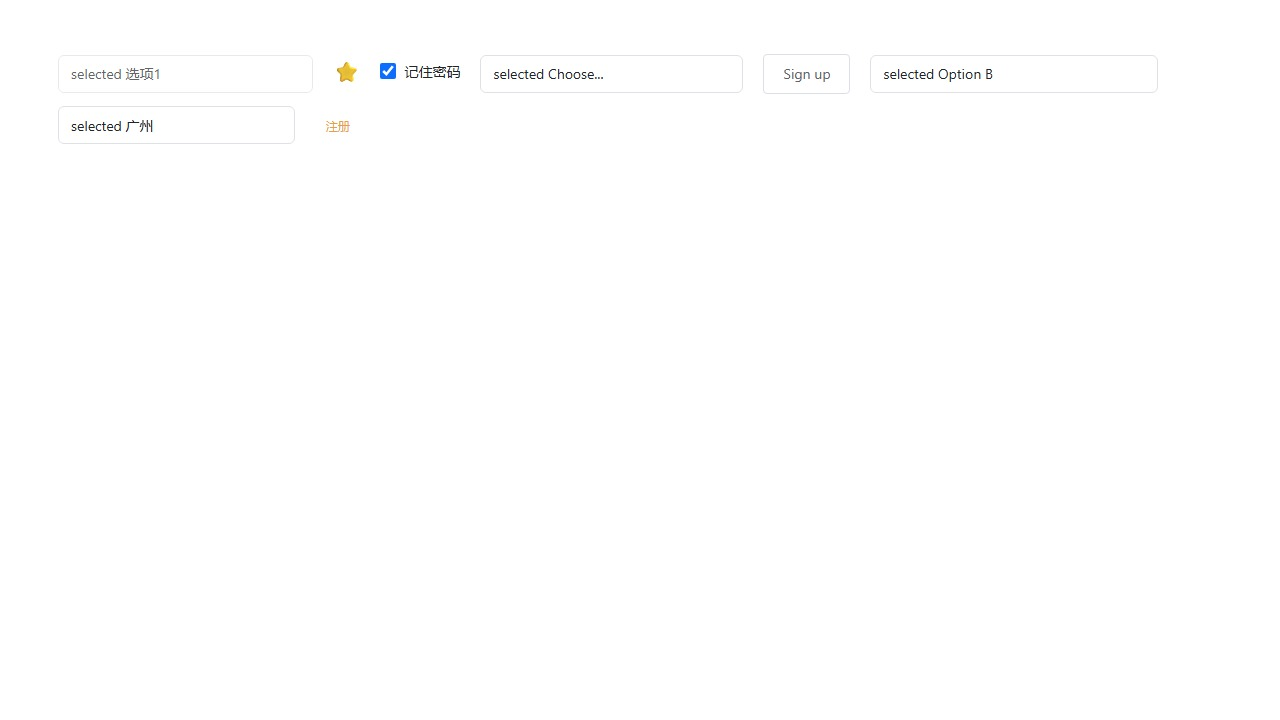button: (763, 54, 850, 94), (315, 115, 361, 137)
checkbox: (380, 63, 396, 79)
icon: (404, 61, 460, 80), (333, 61, 360, 81)
radio: (380, 61, 460, 80)
select: (870, 54, 1158, 92), (480, 54, 743, 92), (58, 54, 313, 92), (58, 106, 295, 144)
